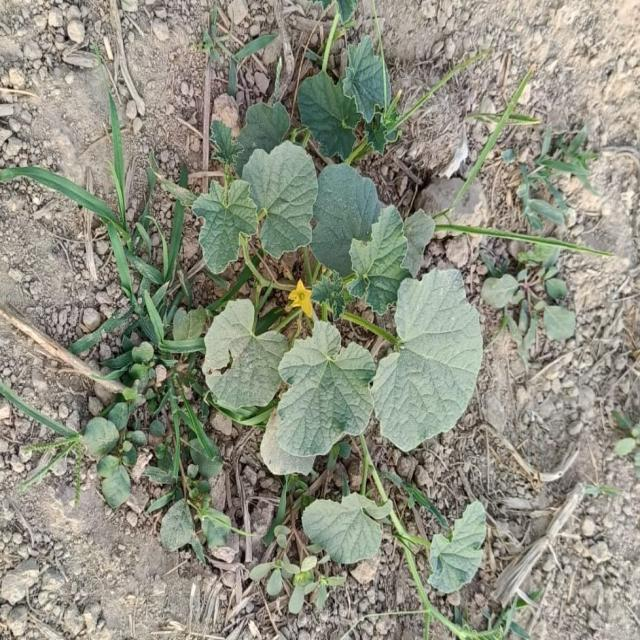plant: (192, 3, 486, 627)
